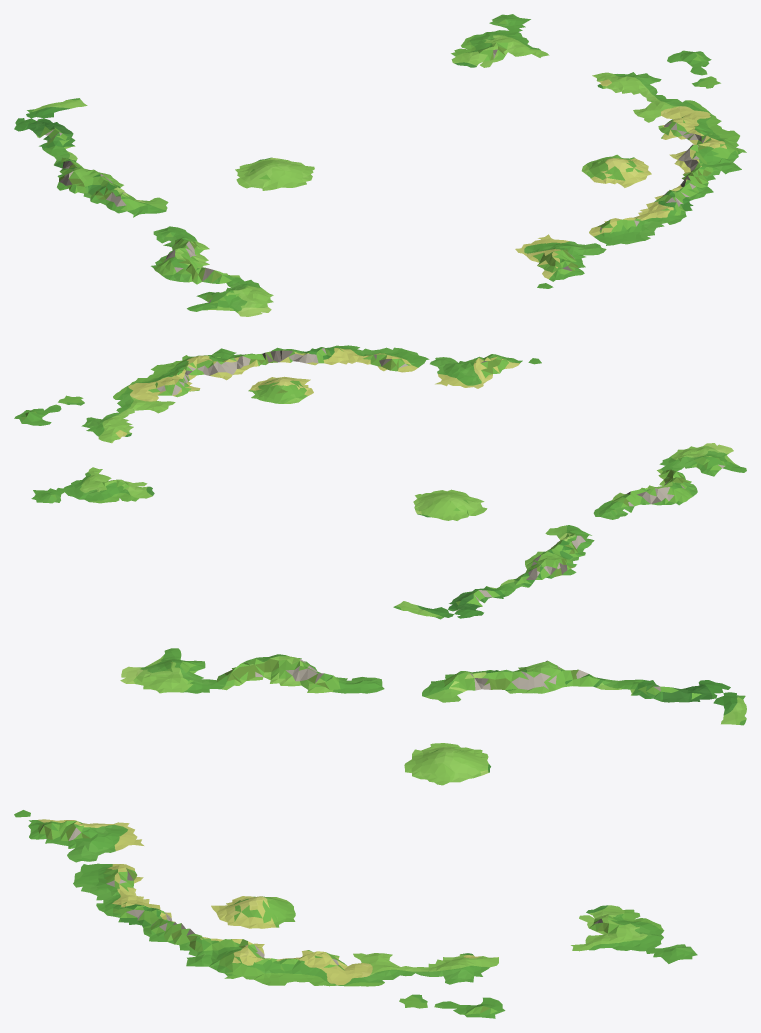
Rendered from Isl-bot5-Relief.fbx.
3 views of the same model, one above another, from view 1: azimuth 30°, elevation 25°; view 2: azimuth 150°, elevation 25°; view 3: azimuth 270°, elevation 25° (orthographic). The views are drawn at different scales.
Visible parts, largest first — view 1: Isl-bot5-Relief-c21, Isl-bot5-Relief-c12, Isl-bot5-Relief-c11, Isl-bot5-Relief-c22, Isl-bot5-Relief-c32; view 2: Isl-bot5-Relief-c21, Isl-bot5-Relief-c12, Isl-bot5-Relief-c11, Isl-bot5-Relief-c22, Isl-bot5-Relief-c32; view 3: Isl-bot5-Relief-c21, Isl-bot5-Relief-c12, Isl-bot5-Relief-c11, Isl-bot5-Relief-c22, Isl-bot5-Relief-c32.
Boxes of the visible parts, <box> form: Isl-bot5-Relief-c21: <box>515,95,746,288</box>; Isl-bot5-Relief-c12: <box>14,98,314,217</box>; Isl-bot5-Relief-c11: <box>151,181,548,316</box>; Isl-bot5-Relief-c22: <box>451,14,661,97</box>; Isl-bot5-Relief-c32: <box>667,50,716,86</box>; Isl-bot5-Relief-c21: <box>113,345,538,414</box>; Isl-bot5-Relief-c12: <box>393,490,594,619</box>; Isl-bot5-Relief-c11: <box>447,359,746,519</box>; Isl-bot5-Relief-c22: <box>31,412,154,503</box>; Isl-bot5-Relief-c32: <box>14,398,84,425</box>; Isl-bot5-Relief-c21: <box>14,813,414,986</box>; Isl-bot5-Relief-c12: <box>411,660,746,785</box>; Isl-bot5-Relief-c11: <box>15,648,415,814</box>; Isl-bot5-Relief-c22: <box>412,905,697,984</box>; Isl-bot5-Relief-c32: <box>412,994,505,1018</box>.
Size of the model in its own units: 116 by 2.4 by 97.36.
